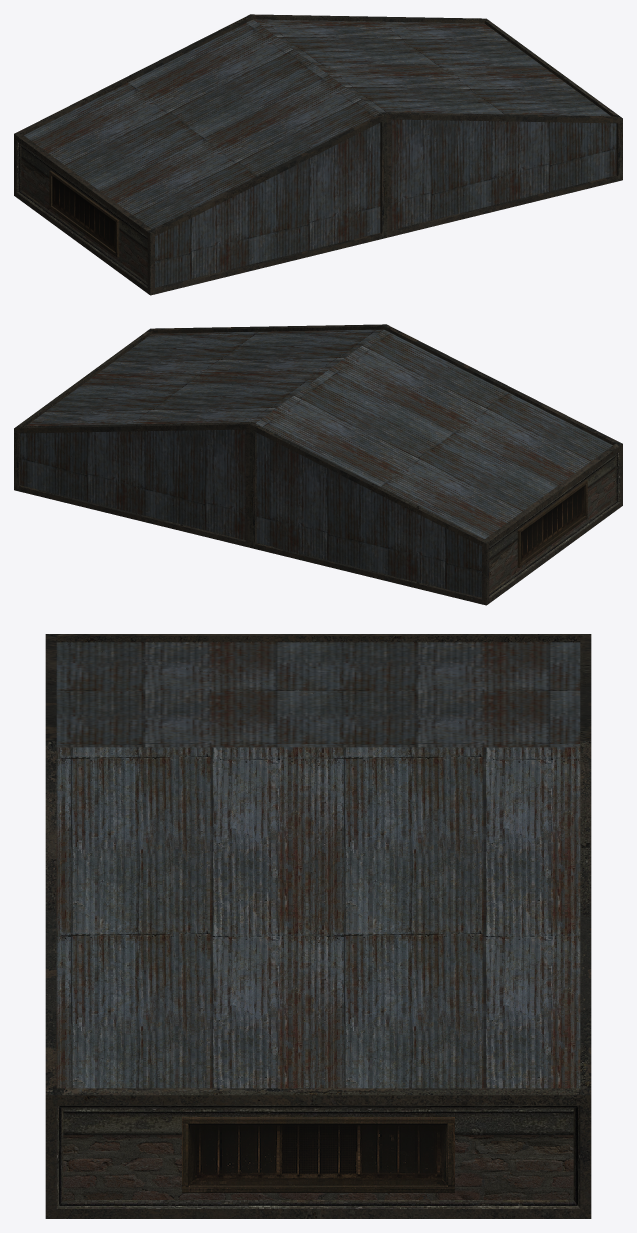
Rendered from roof_mh_4_a_1.glb.
3 views of the same model, one above another, from view 1: azimuth 30°, elevation 25°; view 2: azimuth 150°, elevation 25°; view 3: azimuth 270°, elevation 25° (orthographic). The views are drawn at different scales.
Parts seen in each view (by area): view 1: roof_mh_4_a_1; view 2: roof_mh_4_a_1; view 3: roof_mh_4_a_1.
Part boxes in pixels (x1,y1,x2,y2): roof_mh_4_a_1: [14, 14, 622, 295]; roof_mh_4_a_1: [14, 324, 622, 605]; roof_mh_4_a_1: [45, 634, 591, 1218].
Size of the model in its own units: 8 by 2 by 4.
6 materials, 6 textured.
